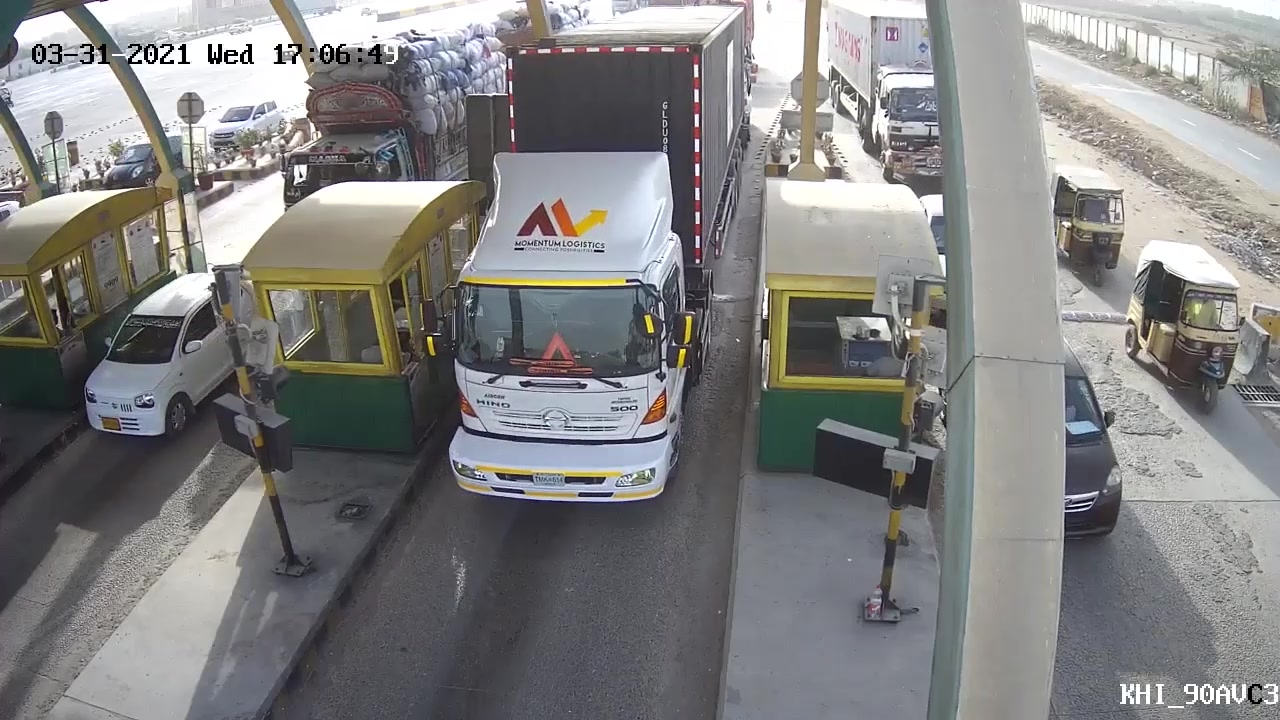F6: (430, 2, 759, 508)
